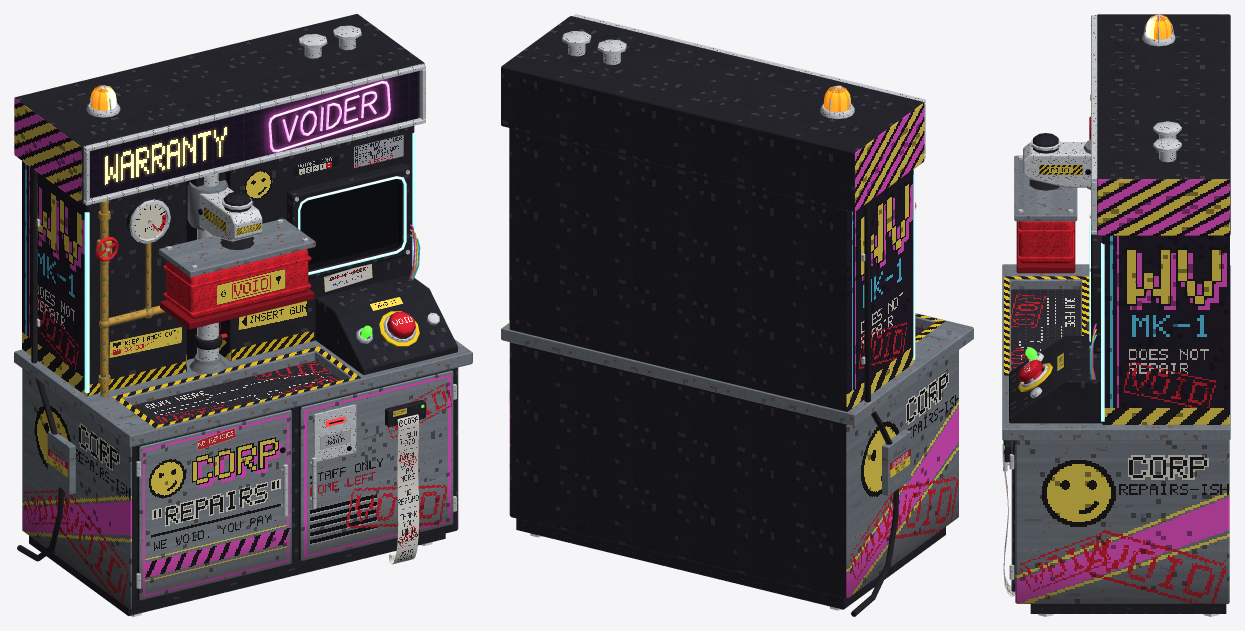
File: x_zmvoider.glb
The picture shows the model from 3 angles, left to right: view 1: azimuth 30°, elevation 25°; view 2: azimuth 150°, elevation 25°; view 3: azimuth 270°, elevation 25°; orthographic projection. The views are drawn at different scales.
Parts seen in each view (by area): view 1: wv_body, stamp; view 2: wv_body; view 3: wv_body, stamp, lamp_wzN.
Boxes of the visible parts, x1,y1,x2,y2 form: wv_body: [14, 14, 472, 616]; stamp: [158, 180, 315, 329]; wv_body: [501, 14, 973, 616]; wv_body: [1002, 14, 1230, 616]; stamp: [1014, 133, 1090, 273]; lamp_wzN: [1146, 14, 1171, 39].
Bounding box in the file's own units: 1.8 × 2.4 × 1.05.
Materials: 13 (11 with a texture image).
